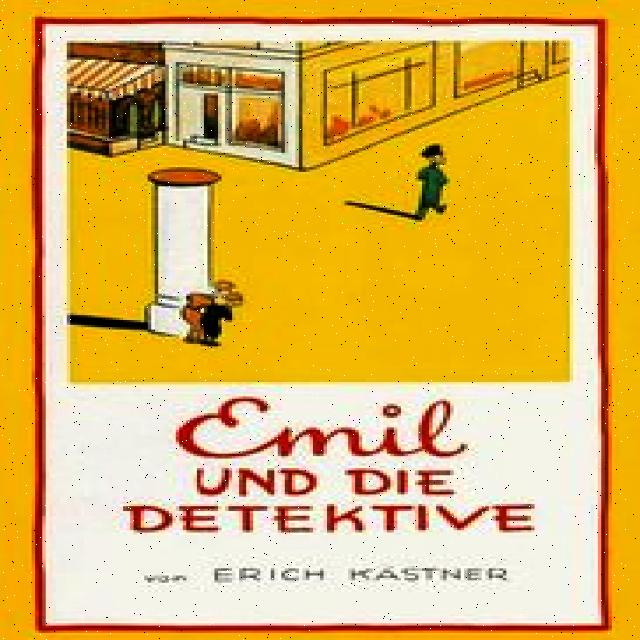movie-judul: (96, 386, 570, 604)
picture: (42, 20, 604, 628)
